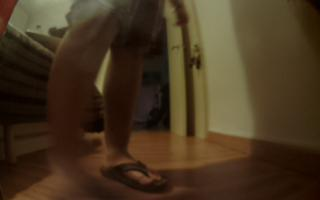person: (37, 1, 193, 200)
